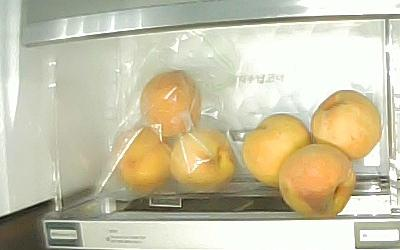peach: (279, 143, 355, 217), (242, 113, 311, 188), (311, 89, 381, 159)
peach_vinyl: (139, 70, 200, 139), (170, 126, 234, 188), (114, 128, 172, 194)
